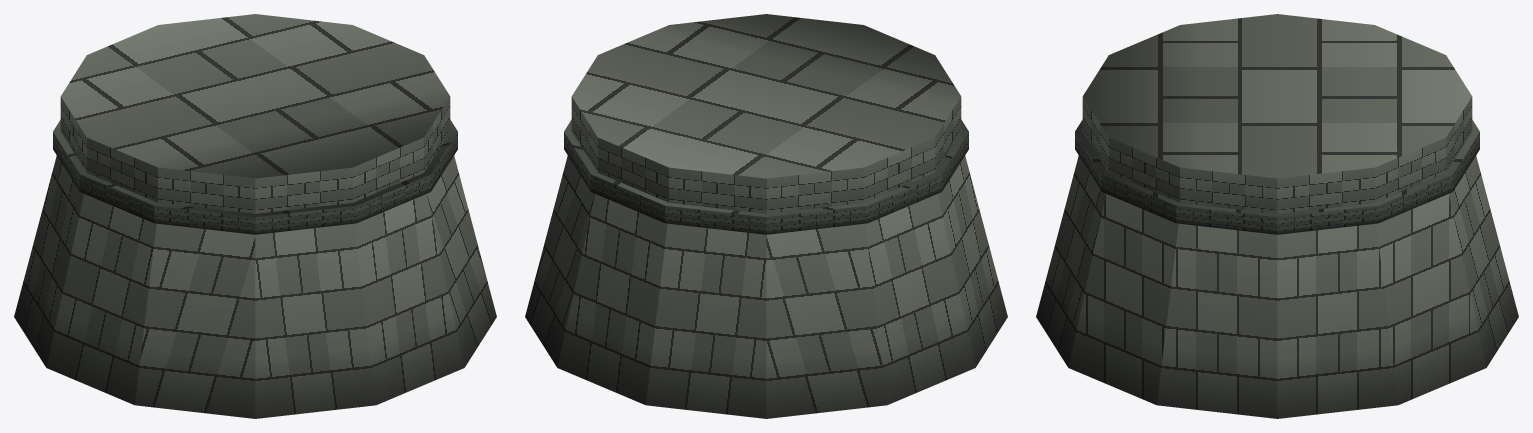
The model's file is tower_base_dark.gltf.
The picture shows the model from 3 angles, left to right: view 1: azimuth 30°, elevation 25°; view 2: azimuth 150°, elevation 25°; view 3: azimuth 270°, elevation 25°; orthographic projection.
Parts seen in each view (by area): view 1: tower_base_dark; view 2: tower_base_dark; view 3: tower_base_dark.
Part boxes in pixels (<box>): tower_base_dark: <box>14,14,496,418</box>; tower_base_dark: <box>525,14,1007,418</box>; tower_base_dark: <box>1036,14,1518,418</box>.
Size of the model in its own units: 1.24 by 0.625 by 1.24.
1 material, 1 textured.
